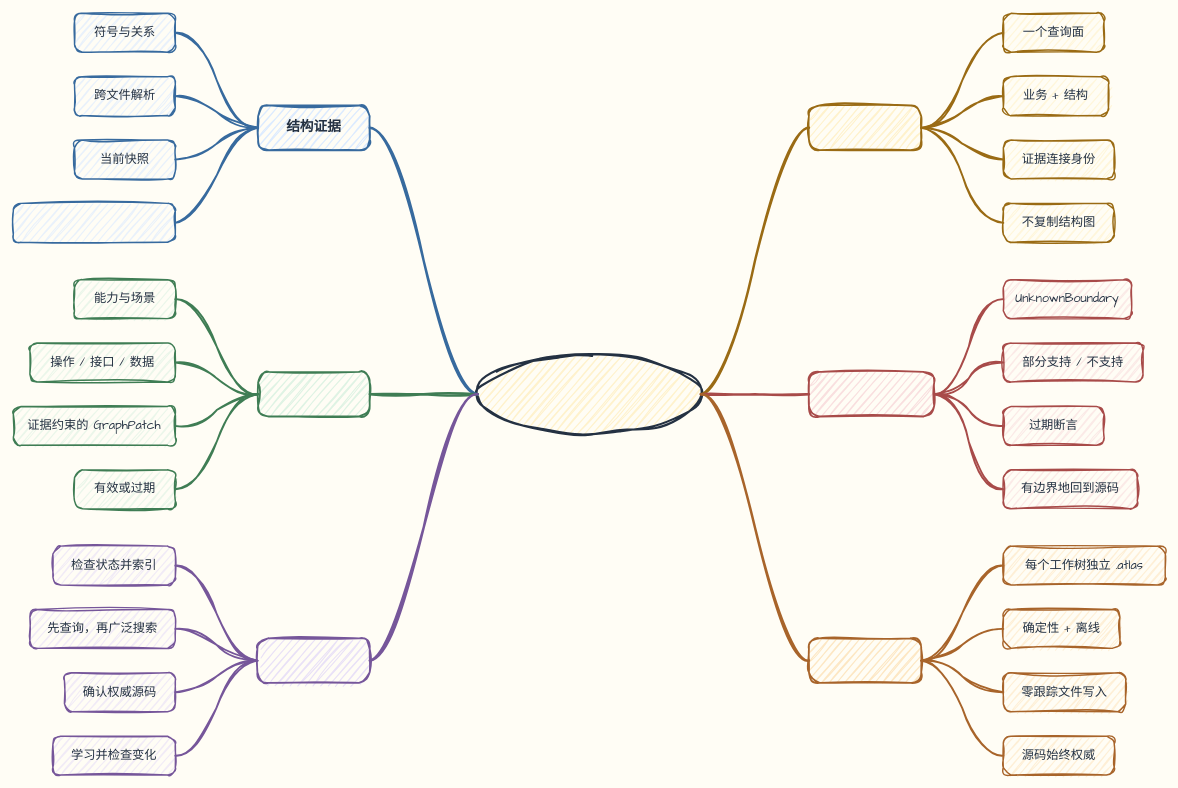
Image size: 1178x788. Some labels were removed from this diagram. Here are the shapes that lost their labels. From the top down, the centre of each, then its label:
At (865,127): "统一世界图".
At (94,222): "TypeScript + JavaScript".
At (313,394): "业务知识".
At (589,394): "Semantic Atlas 一张证据约束的项目世界图".
At (871,394): "显式不确定性".
At (313,660): "Agent 循环".
At (865,660): "本地化设计".
